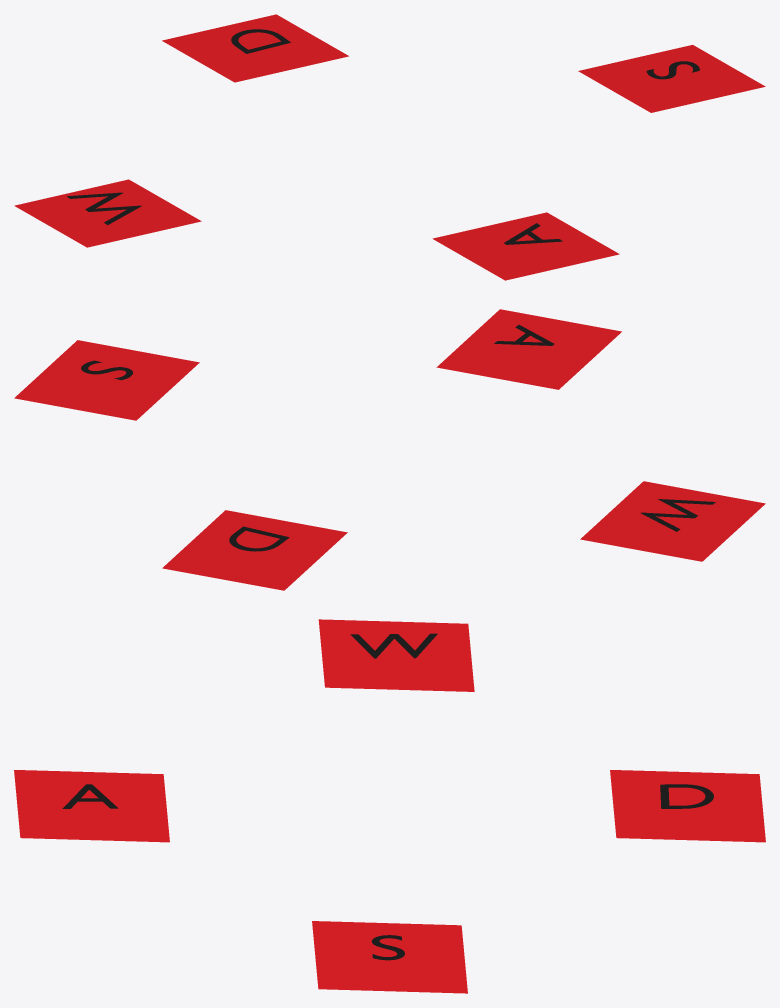
The model's file is firing-guides.glb.
The picture shows the model from 3 angles, top to bottom: view 1: azimuth 30°, elevation 25°; view 2: azimuth 150°, elevation 25°; view 3: azimuth 270°, elevation 25°; orthographic projection. The views are drawn at different scales.
Parts seen in each view (by area): view 1: Plane.007, Plane.006, Plane.005, Plane.004, Text, Text.001; view 2: Plane.007, Plane.006, Plane.005, Plane.004, Text, Text.001; view 3: Plane.007, Plane.006, Plane.005, Plane.004, Text, Text.001.
Boxes of the visible parts, x1,y1,x2,y2 form: Plane.007: [578, 45, 765, 112]; Plane.006: [432, 212, 619, 280]; Plane.005: [162, 14, 348, 82]; Plane.004: [14, 179, 201, 247]; Text: [67, 192, 141, 225]; Text.001: [231, 29, 290, 53]; Plane.007: [14, 340, 199, 420]; Plane.006: [436, 309, 621, 389]; Plane.005: [162, 510, 347, 590]; Plane.004: [580, 481, 765, 561]; Text: [641, 499, 715, 531]; Text.001: [229, 526, 289, 551]; Plane.007: [312, 921, 467, 993]; Plane.006: [14, 770, 169, 842]; Plane.005: [610, 770, 765, 842]; Plane.004: [318, 619, 474, 691]; Text: [350, 633, 437, 658]; Text.001: [660, 784, 713, 808].
Size of the model in its own units: 14.6 by 0.2953 by 12.62.
